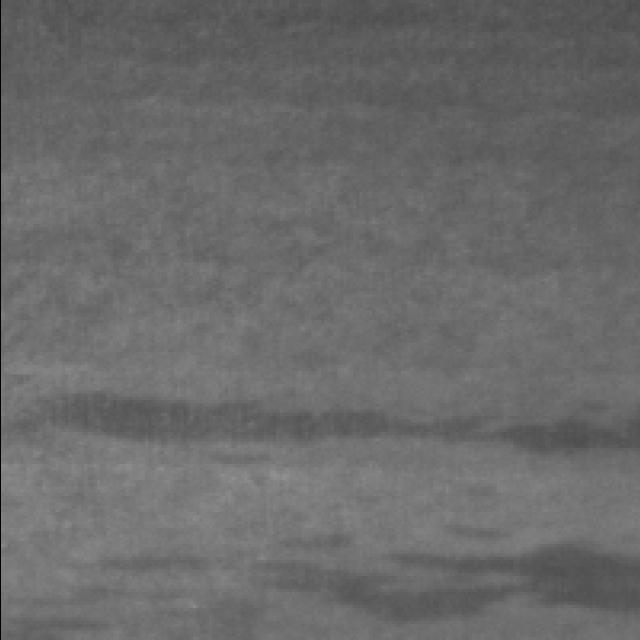inclusion: (0, 376, 634, 484), (239, 506, 640, 630), (78, 544, 216, 585)
